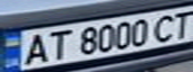0: (93, 21, 118, 53), (130, 16, 154, 47), (115, 19, 136, 49)
8: (75, 24, 100, 55)
A: (18, 30, 54, 66)
C: (148, 11, 181, 43)
T: (42, 27, 72, 61), (169, 7, 193, 39)
